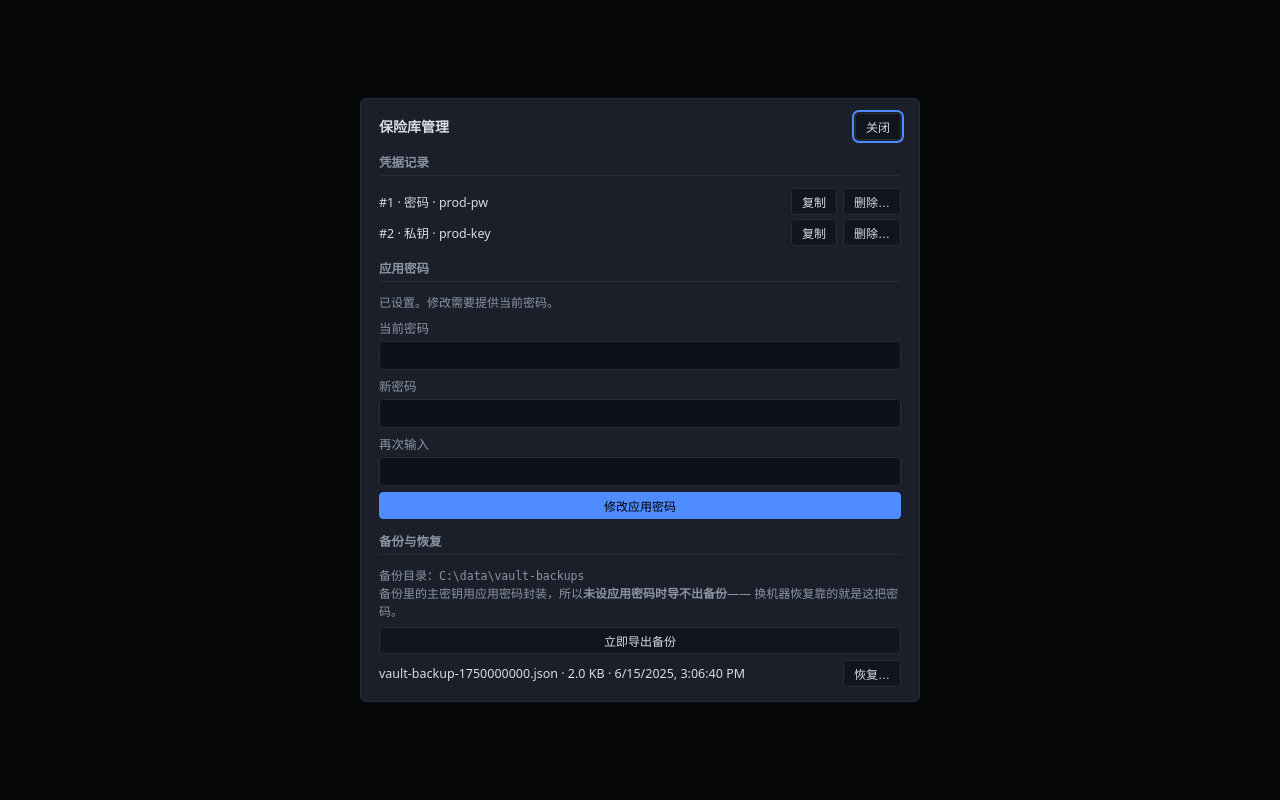
VaultManagerDialog › 新密码为空 → 拦下（空口令等于把应用密码这条路悄悄拆掉）
Click the button with test id "vm-pass-submit".
click(640, 505)  # box [379,492,901,519]
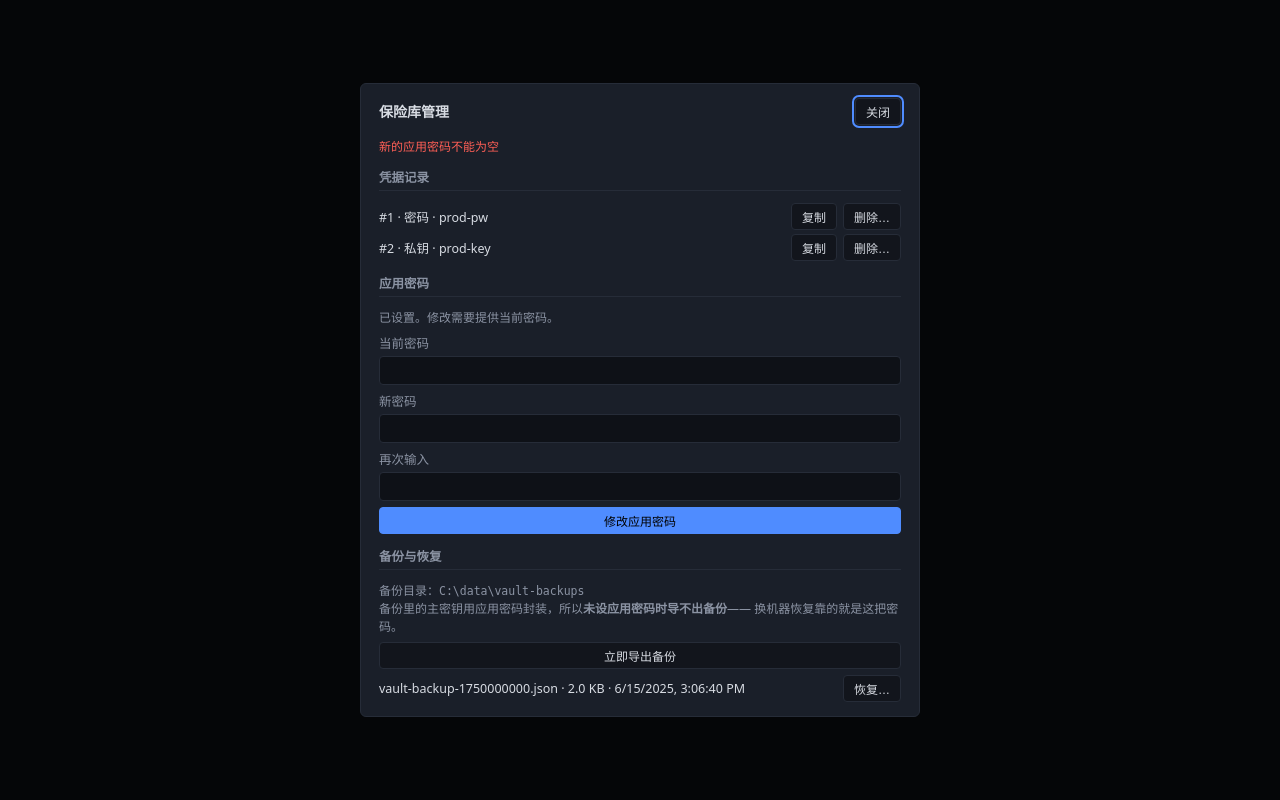
Expected: the message with test id "vm-err" shows "不能为空", [379,138,499,155]
